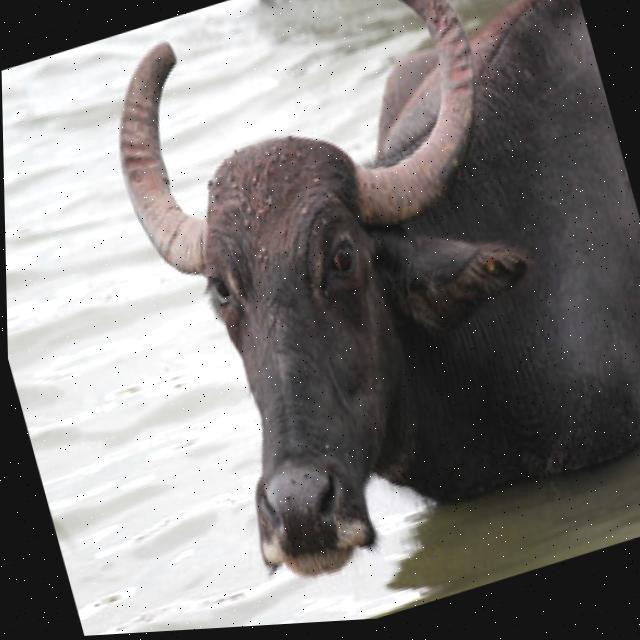Buffalo: (84, 0, 640, 610)
